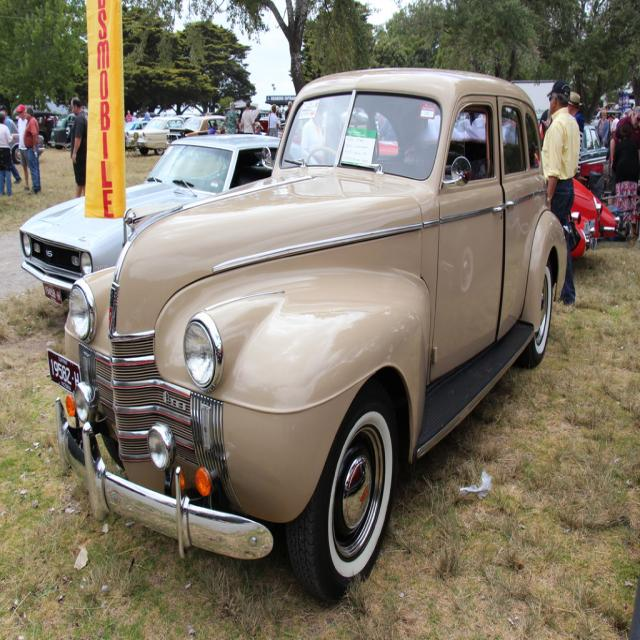car: (46, 64, 566, 602)
